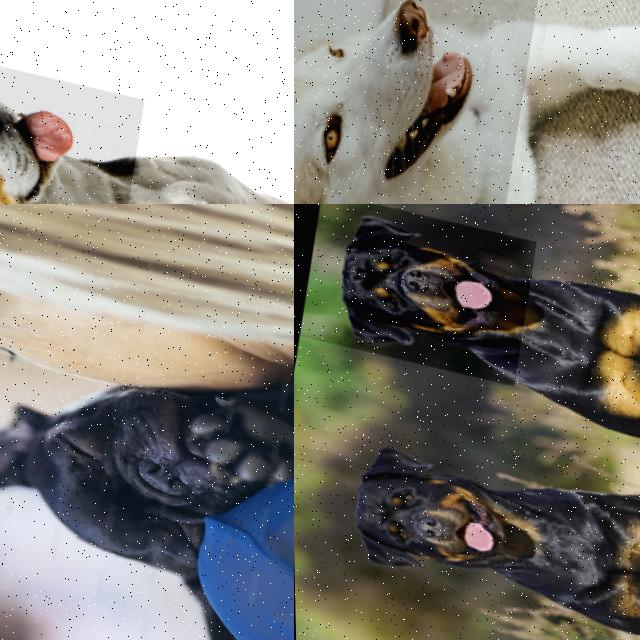beagle: (0, 32, 146, 204)
husky: (294, 0, 542, 204)
rottweiler: (319, 418, 546, 614), (294, 204, 536, 383)
